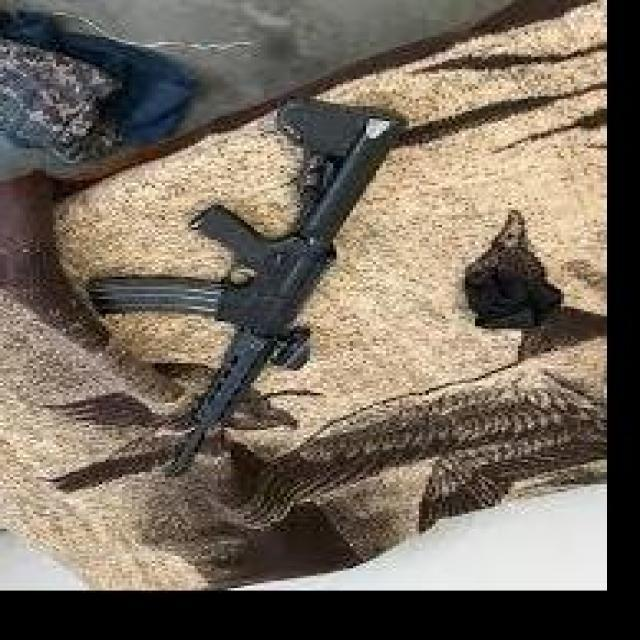weapon: (84, 100, 410, 476)
